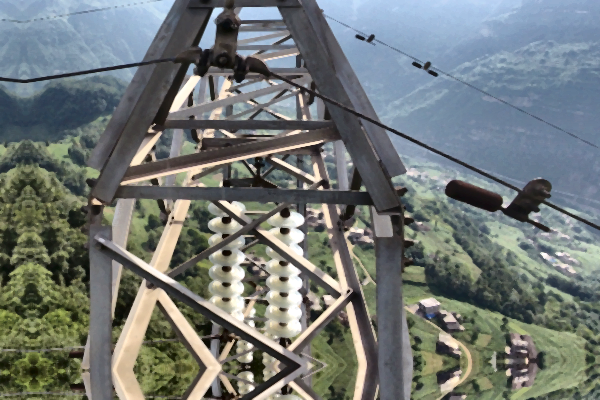damper: (411, 59, 440, 78)
damper_defect: (440, 173, 556, 237), (354, 32, 378, 46)
